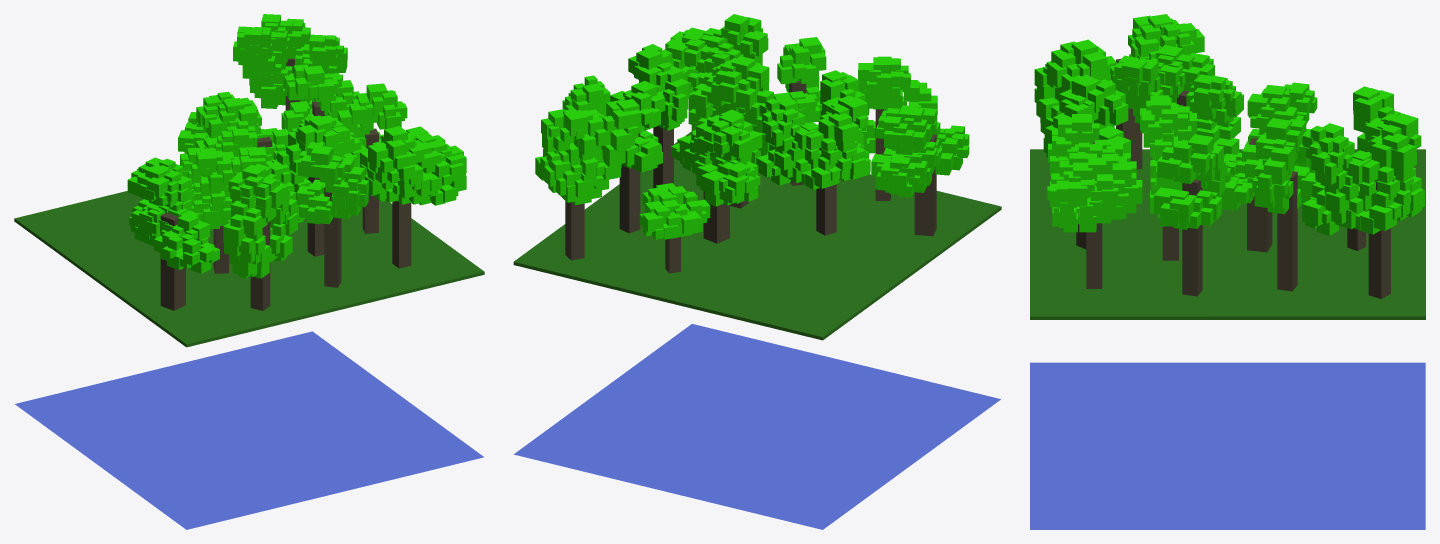
The model's file is 26__tile.fbx.
3 views of the same model, side by side, from view 1: azimuth 30°, elevation 25°; view 2: azimuth 150°, elevation 25°; view 3: azimuth 270°, elevation 25° (orthographic). The views are drawn at different scales.
Visible parts, largest first — view 1: 26__tile; view 2: 26__tile; view 3: 26__tile.
Part boxes in pixels (x1,y1,x2,y2): 26__tile: (14, 14, 484, 529); 26__tile: (513, 14, 1001, 529); 26__tile: (1030, 14, 1425, 529).
Bounding box in the file's own units: 200 × 218 × 200.
